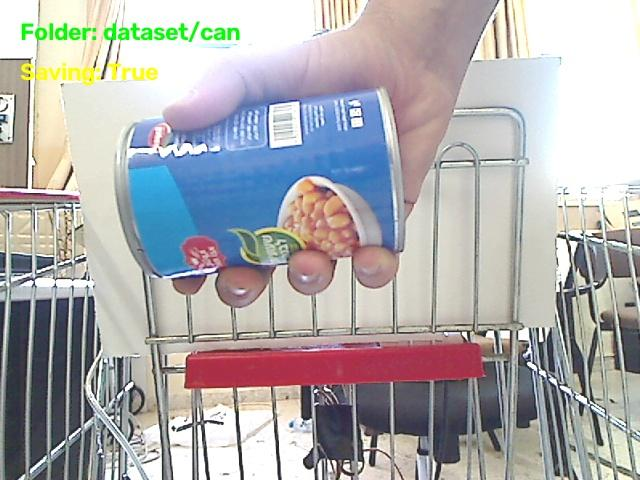can: (116, 88, 404, 277)
